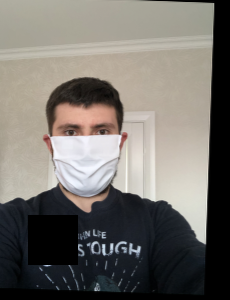with_mask: (48, 114, 121, 197)
